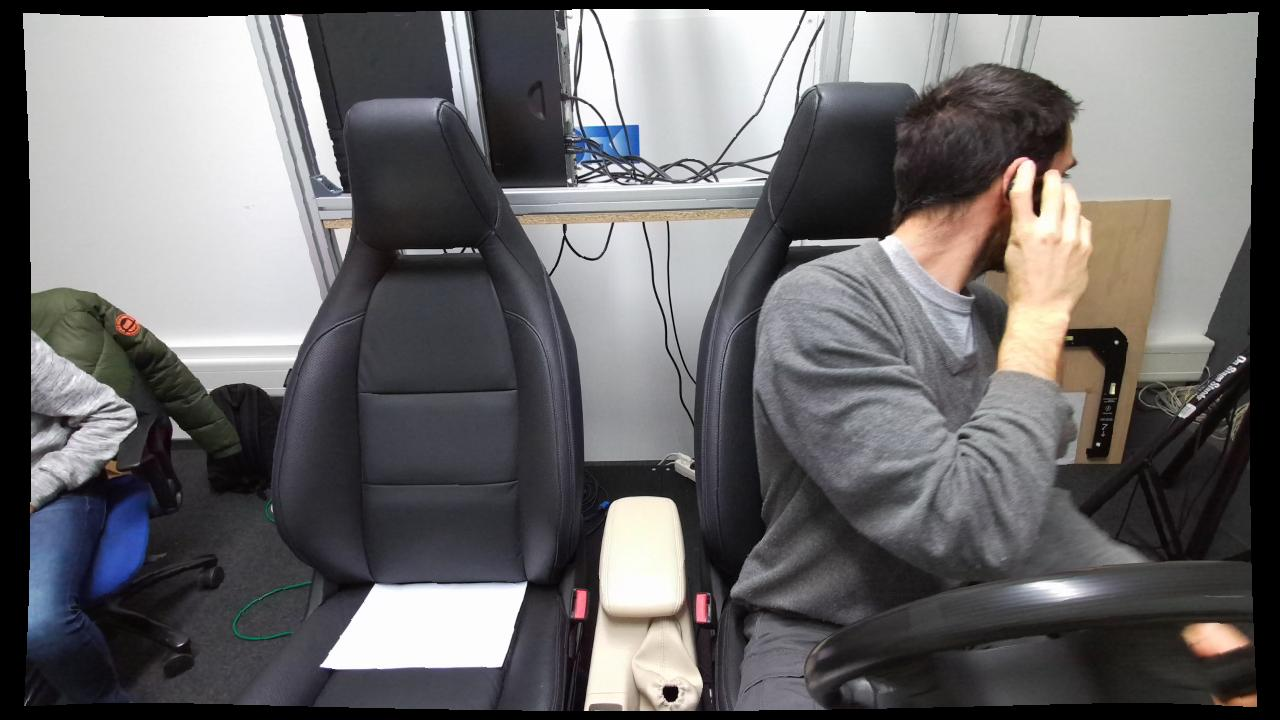Distracted: (730, 58, 1098, 715), (732, 62, 1095, 714)
PhoneUse: (916, 130, 1113, 293)
